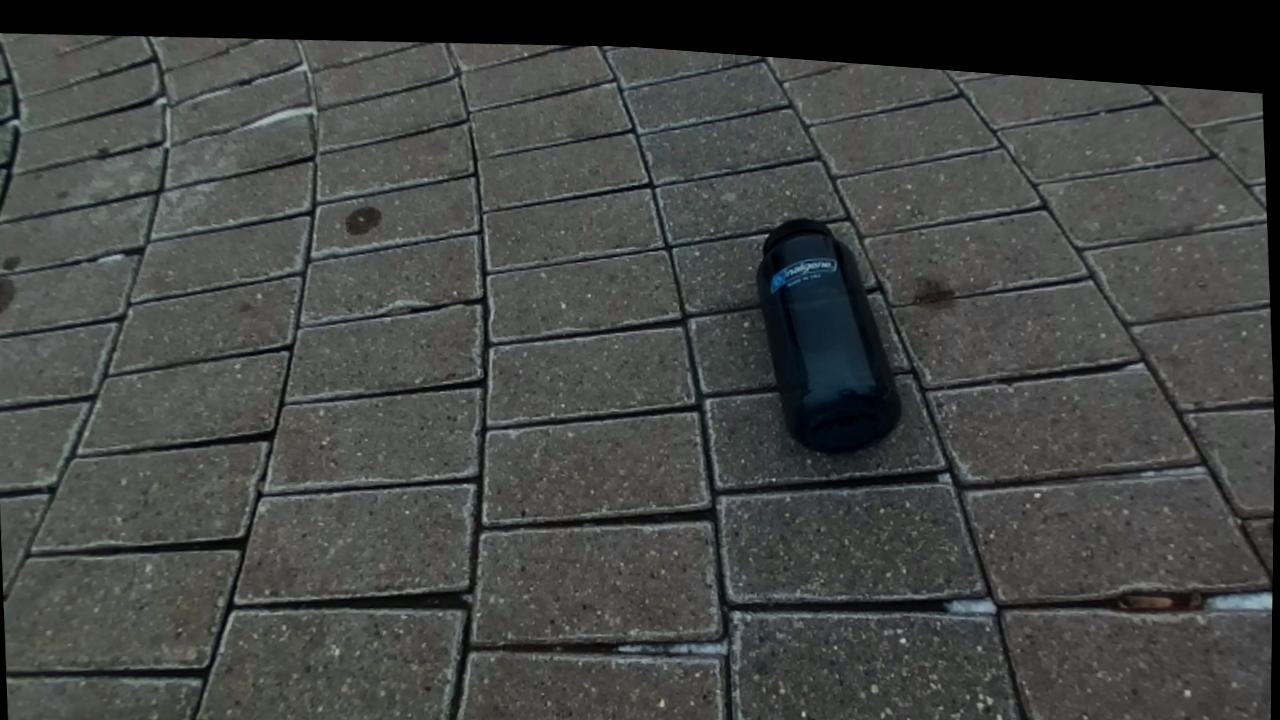bottle: (756, 218, 900, 453)
